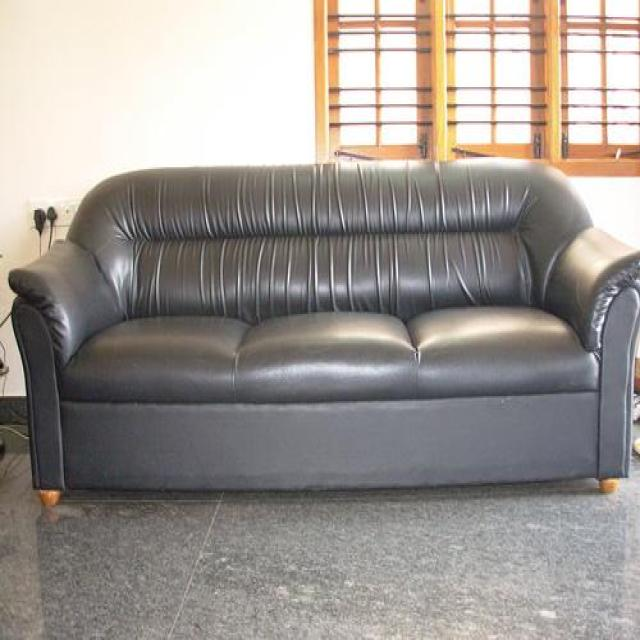sofa: (7, 155, 640, 506)
